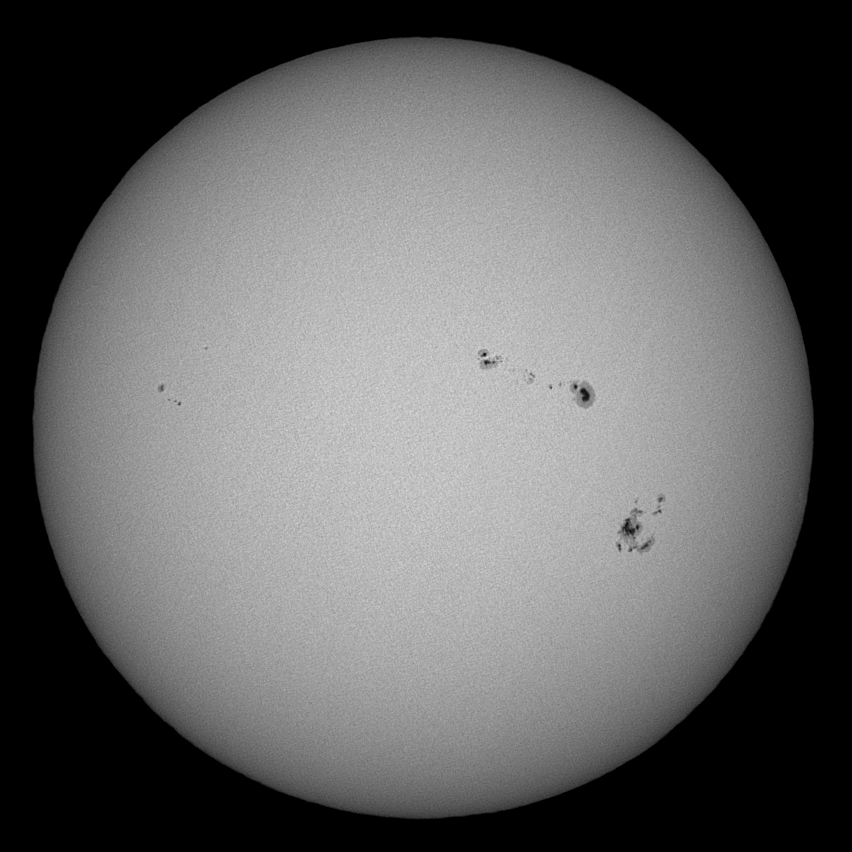sunspot: (472, 347, 600, 410), (614, 493, 668, 559), (153, 381, 186, 408), (202, 343, 206, 347)
